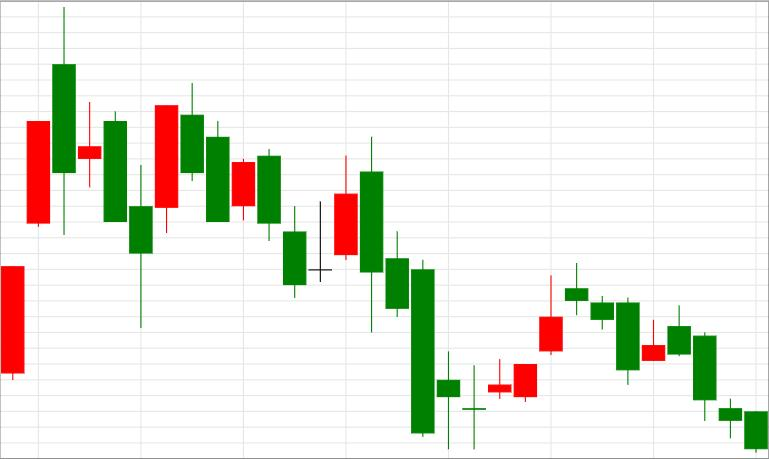bearish_engulfing_fall: (283, 136, 384, 333)
